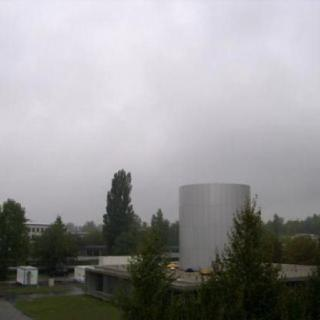Nimbostratus: (0, 0, 320, 186)
